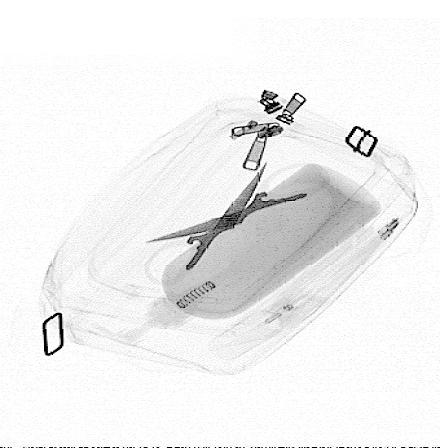Scissors: (144, 158, 332, 283)
